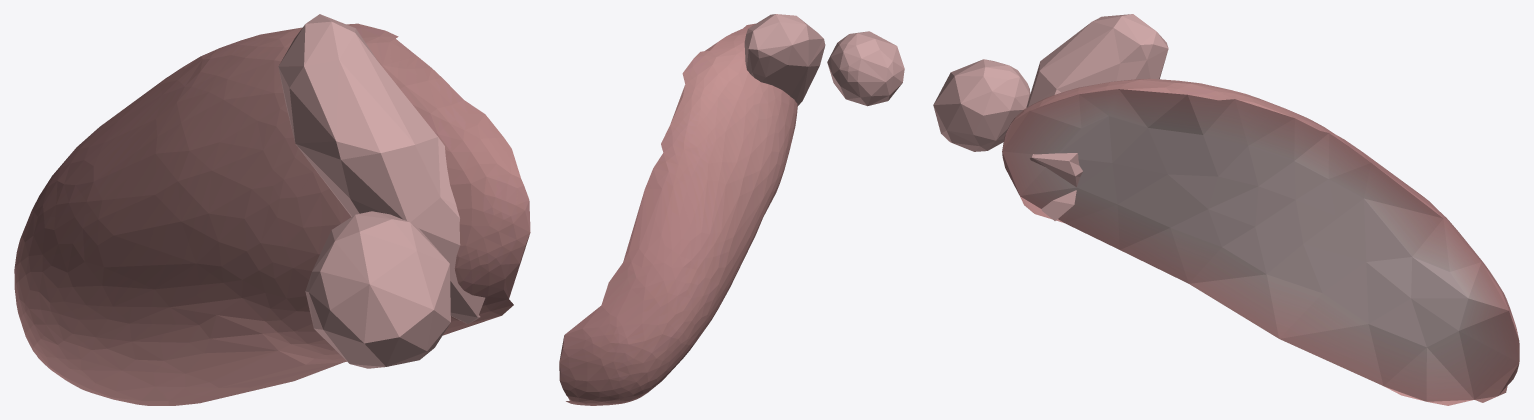
File: Pineal_gland1.obj
3 views of the same model, side by side, from view 1: azimuth 30°, elevation 25°; view 2: azimuth 150°, elevation 25°; view 3: azimuth 270°, elevation 25° (orthographic). The views are drawn at different scales.
Visible parts, largest first — view 1: obj0; view 2: obj0; view 3: obj0.
Part boxes in pixels (left/top/right/bottom): obj0: left=14, top=14, right=530, bottom=405; obj0: left=559, top=14, right=904, bottom=405; obj0: left=933, top=14, right=1519, bottom=405.
Bounding box in the file's own units: 2.56 × 6.02 × 8.89.
Materials: 1 (1 with a texture image).
